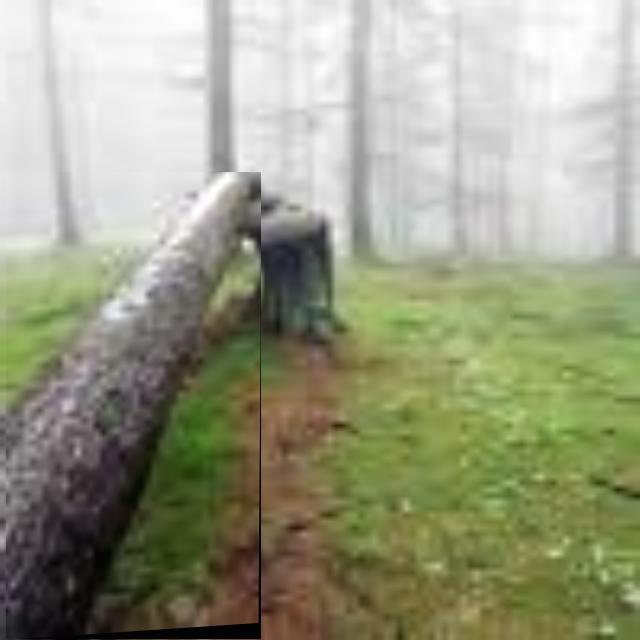fallen_tree: (6, 172, 262, 640)
